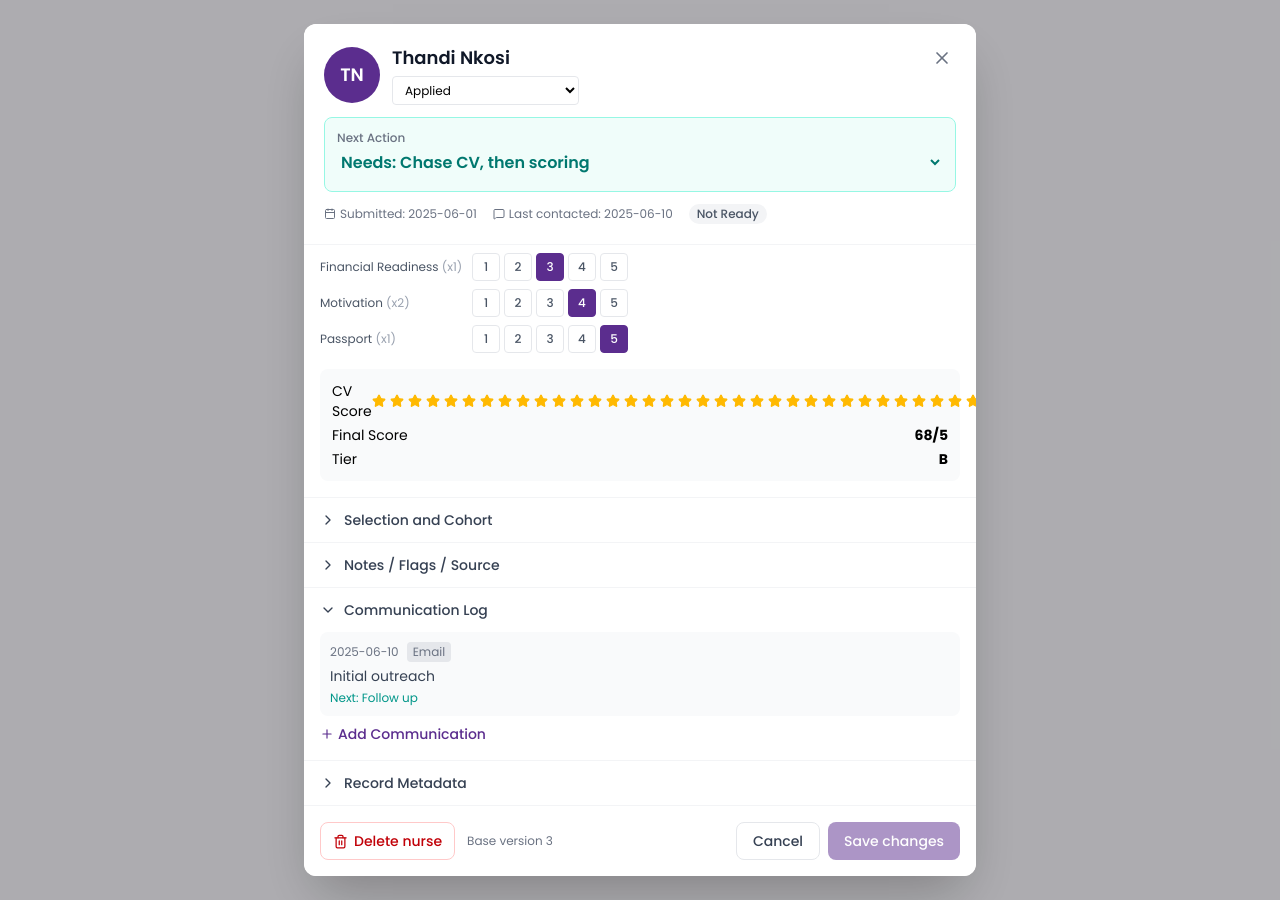
Test case: NurseCard explicit detail edit session › renders the authoritative draft and read-only metadata
The image size is (1280, 900).
(page scrolled)
Expected: the heading "Thandi Nkosi" is shown, left=392, top=45, right=510, bottom=70
Click the button "Record Metadata": (405, 783) left=304, top=761, right=976, bottom=805
(page scrolled)
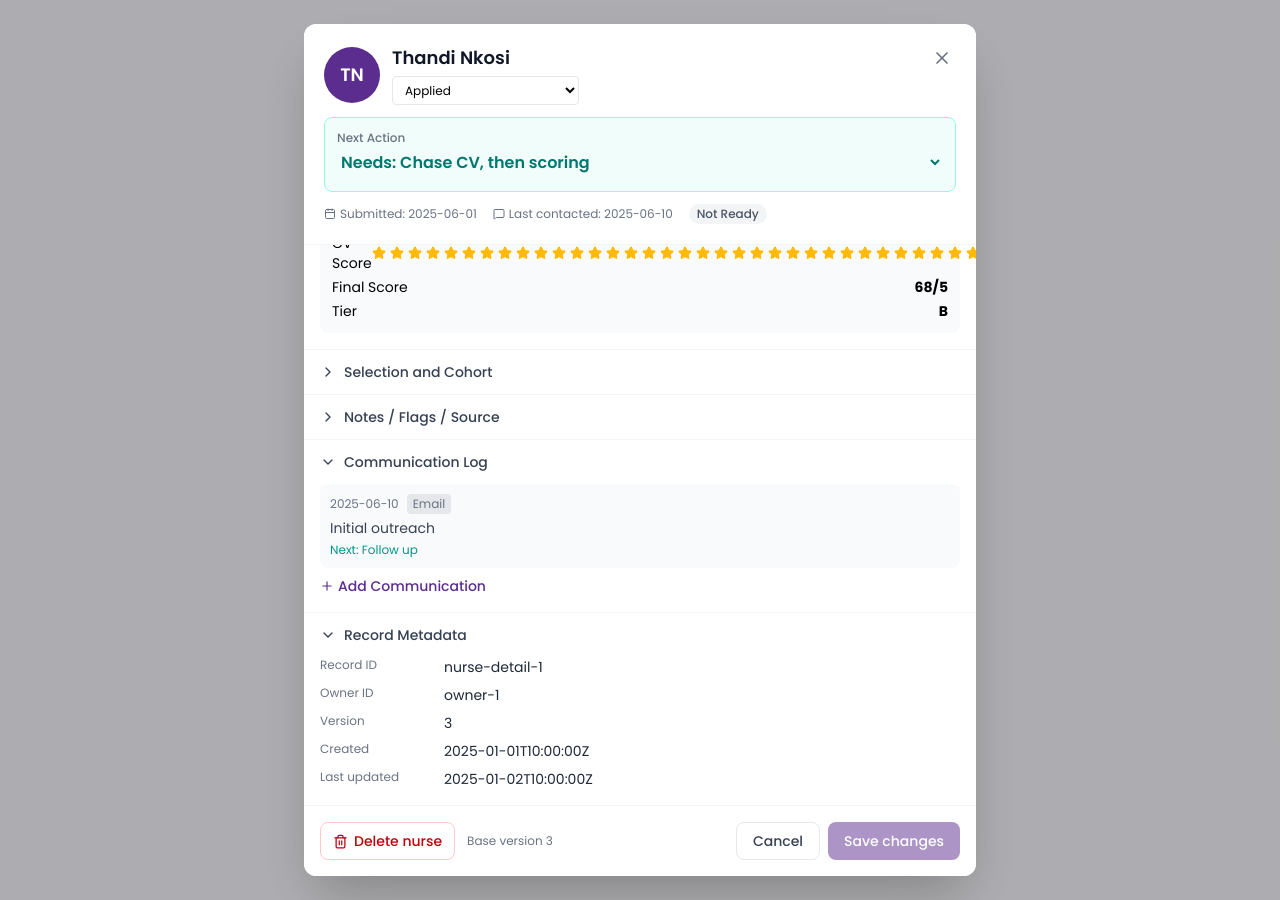
Expected: the text "nurse-detail-1" is shown, left=444, top=657, right=543, bottom=677
Expected: the text "owner-1" is shown, left=444, top=685, right=500, bottom=705
Expected: the text "2025-01-01T10:00:00Z" is shown, left=444, top=741, right=589, bottom=761
